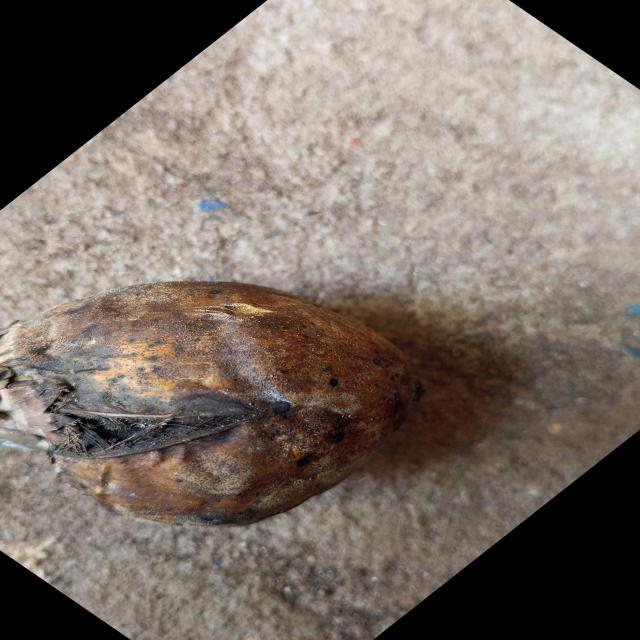damaged: (0, 282, 423, 525)
